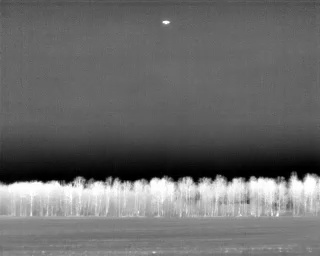DRONE: (159, 17, 174, 29)
